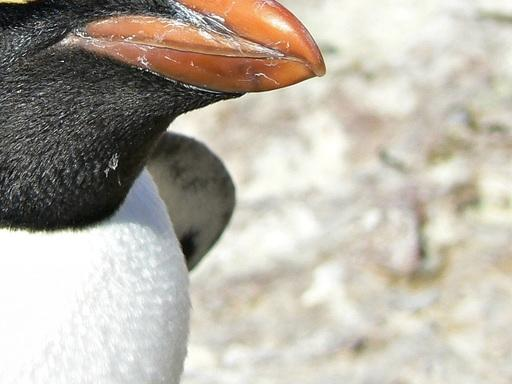Southern Rockhopper Penguin: (0, 0, 305, 383)
